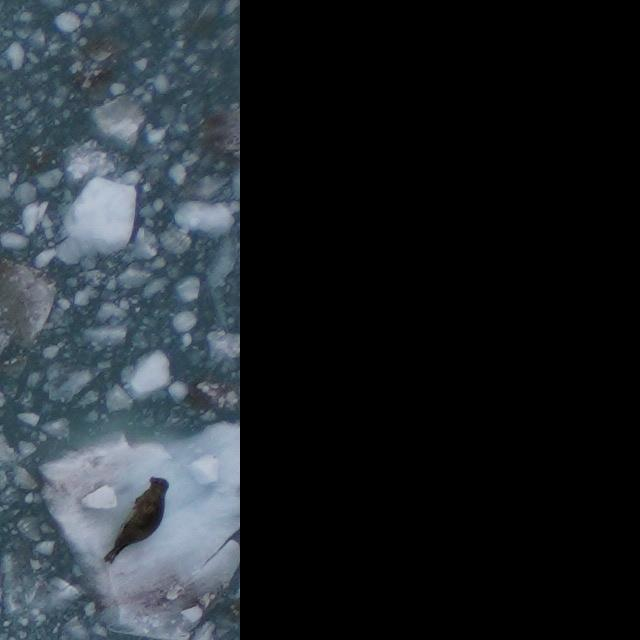seal: (100, 473, 173, 567)
